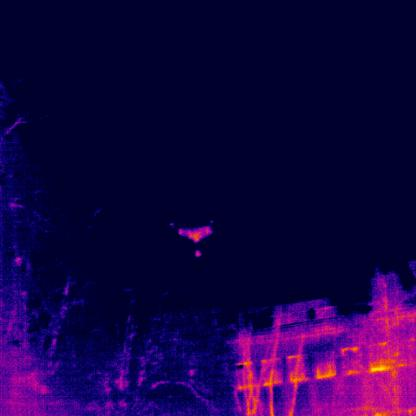drone: (169, 219, 214, 256)
